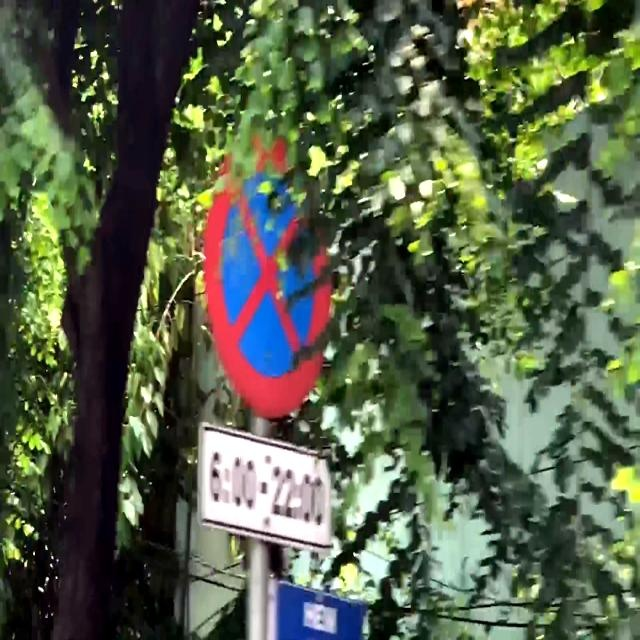bien_chi_dan: (204, 125, 335, 418)
